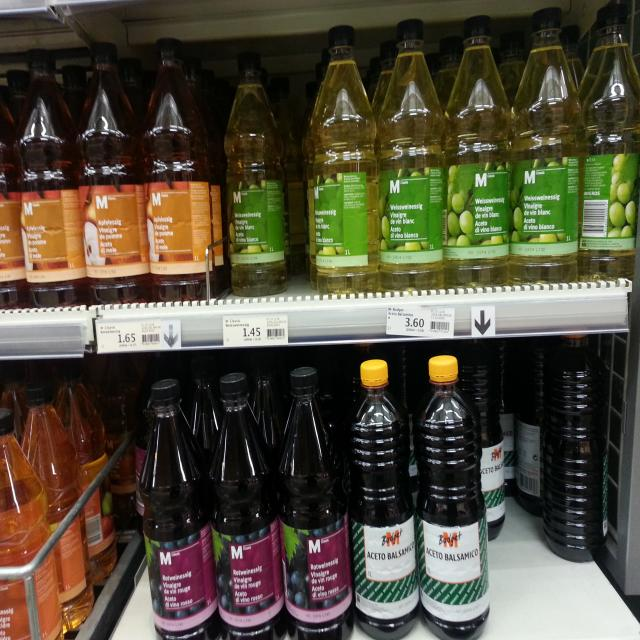Oil-Vinegar: (273, 362, 355, 640), (133, 379, 220, 640), (415, 352, 492, 640), (204, 375, 286, 640), (344, 357, 420, 640), (16, 54, 90, 306), (511, 5, 579, 278), (310, 22, 378, 294), (145, 37, 215, 298), (379, 16, 446, 288), (223, 43, 293, 294), (446, 15, 510, 284), (536, 333, 610, 560), (0, 395, 65, 640), (82, 41, 144, 297), (582, 0, 640, 264)
